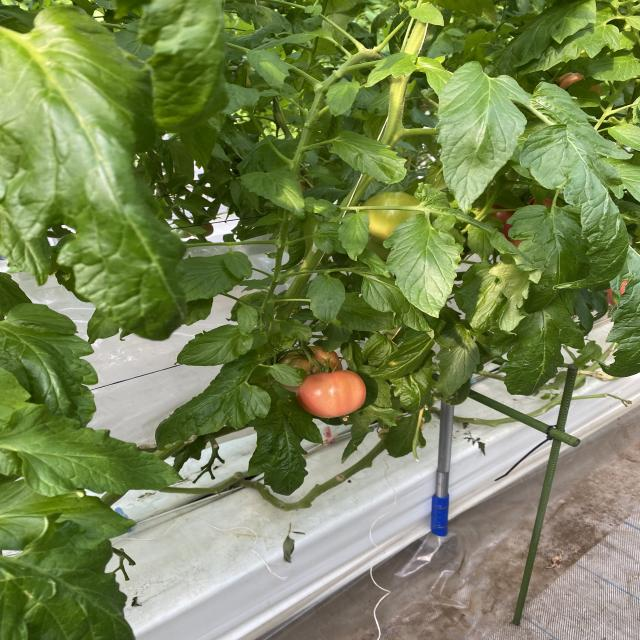n-half-riped: (296, 370, 367, 418), (276, 347, 344, 393)
n-unriped: (360, 190, 426, 244)
